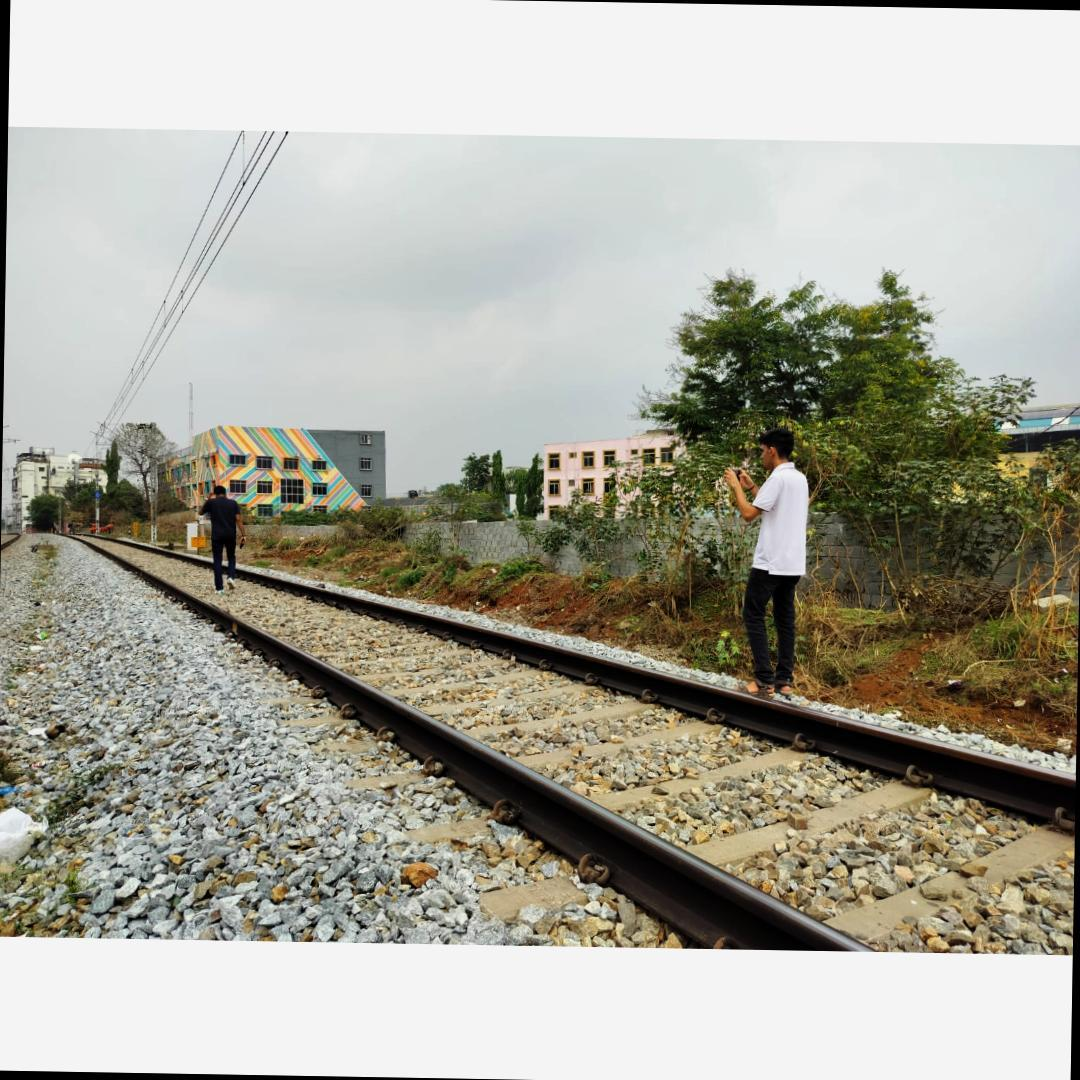standing: (716, 424, 818, 712), (193, 480, 247, 599)
track: (46, 532, 1076, 954)
